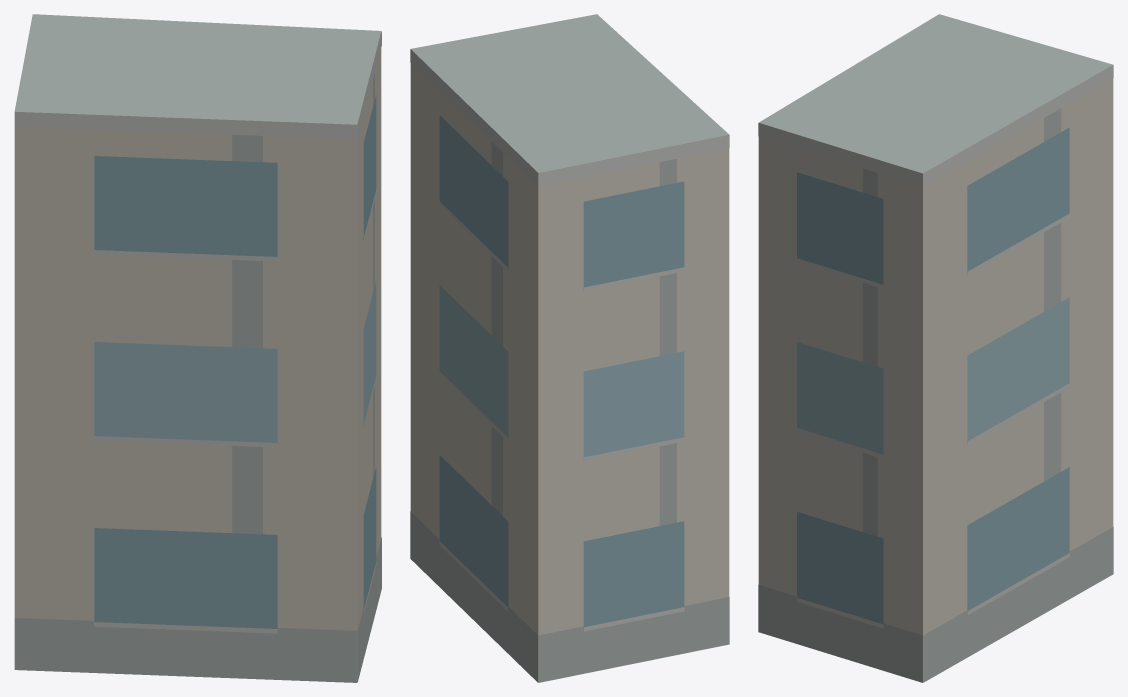
Rendered from survey-upis-32583853.glb.
3 views of the same model, side by side, from view 1: azimuth 30°, elevation 25°; view 2: azimuth 150°, elevation 25°; view 3: azimuth 270°, elevation 25° (orthographic). The views are drawn at different scales.
Parts seen in each view (by area): view 1: survey-upis-32583853.tmp; view 2: survey-upis-32583853.tmp; view 3: survey-upis-32583853.tmp.
Boxes of the visible parts, x1=… form: survey-upis-32583853.tmp: x1=14, y1=14, x2=381, y2=682; survey-upis-32583853.tmp: x1=410, y1=14, x2=729, y2=682; survey-upis-32583853.tmp: x1=758, y1=14, x2=1113, y2=682.
Bounding box in the file's own units: 6.15 × 9.15 × 5.79.
